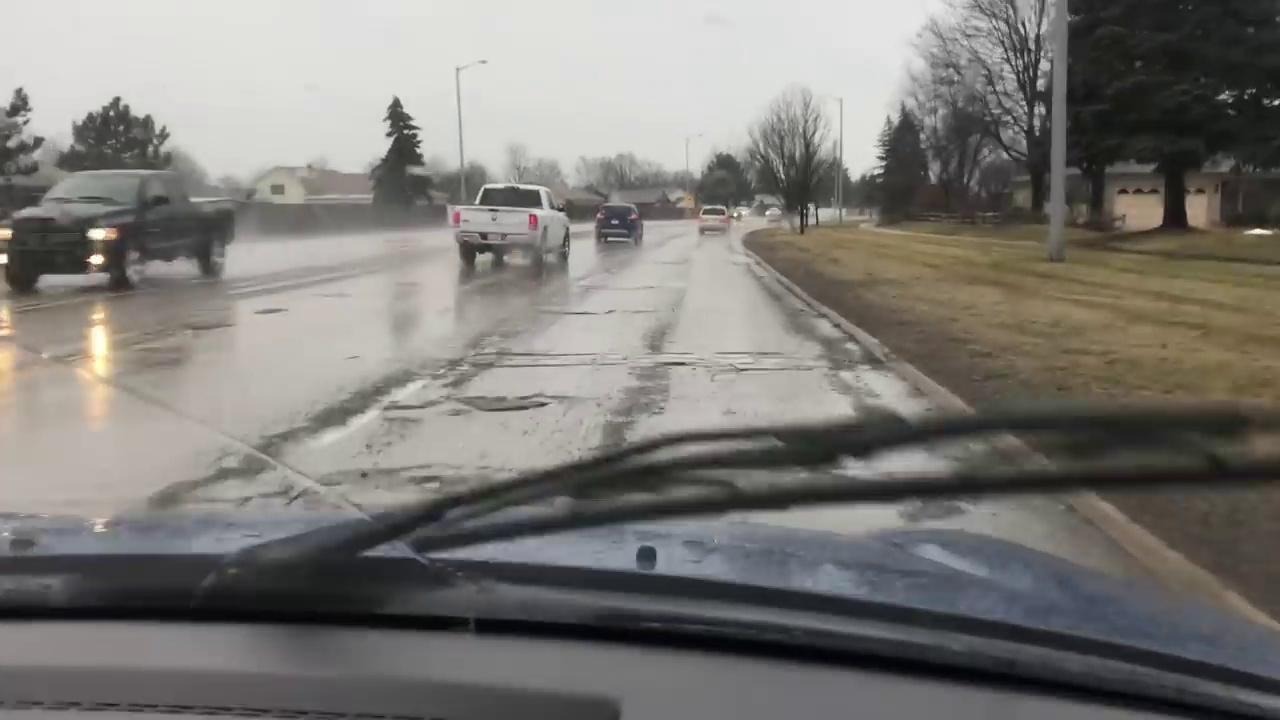pothole: (472, 349, 599, 368), (464, 395, 549, 408), (386, 397, 443, 410)
